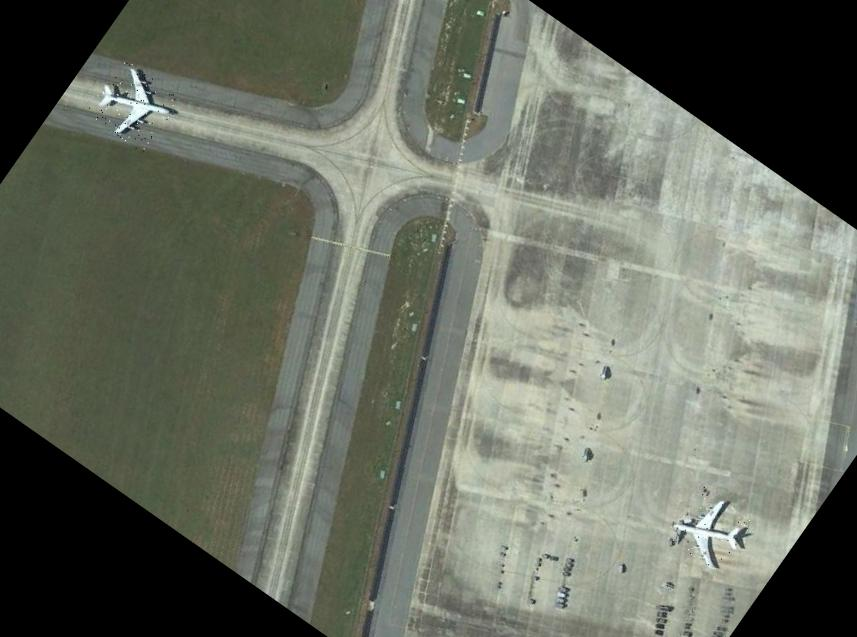A11: (84, 58, 182, 154), (667, 484, 757, 574)
